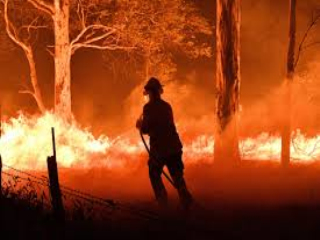fire: (2, 109, 121, 172), (244, 130, 320, 166), (182, 127, 221, 164)
